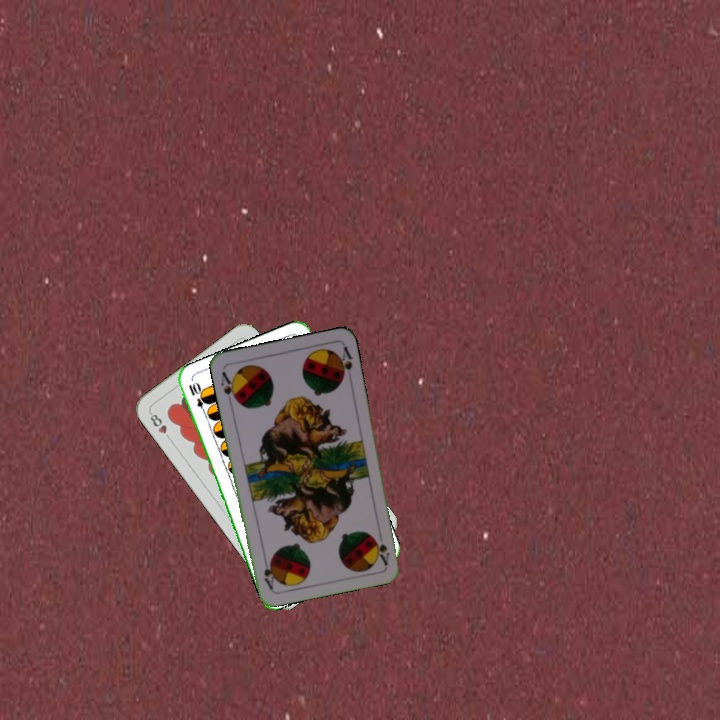E10: (184, 379, 209, 418)
H8: (146, 408, 174, 443)
SA: (217, 368, 240, 407), (371, 527, 392, 568)
